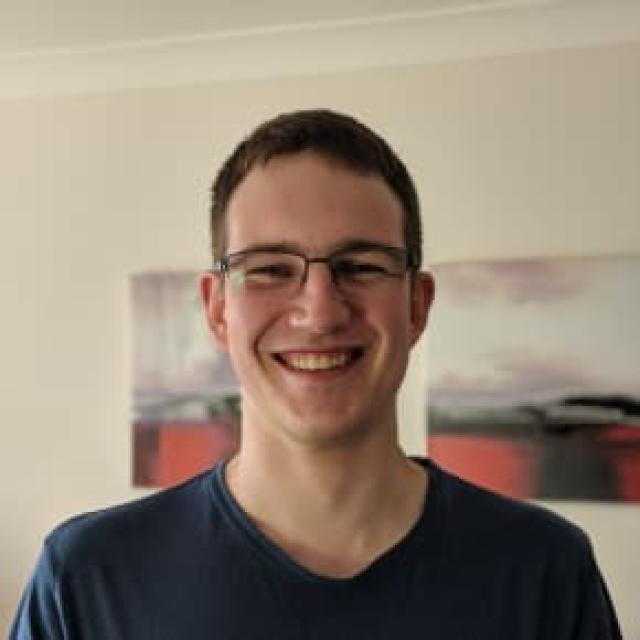human: (37, 114, 620, 640)
